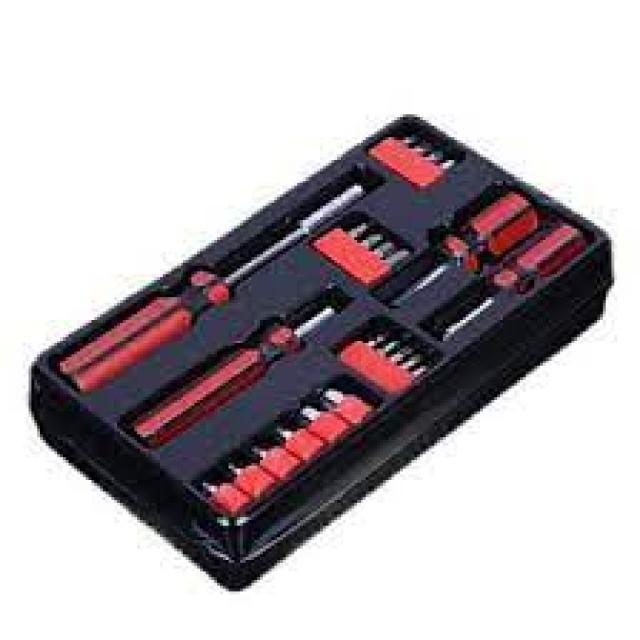screwdriver: (386, 186, 543, 314), (440, 220, 586, 343)
